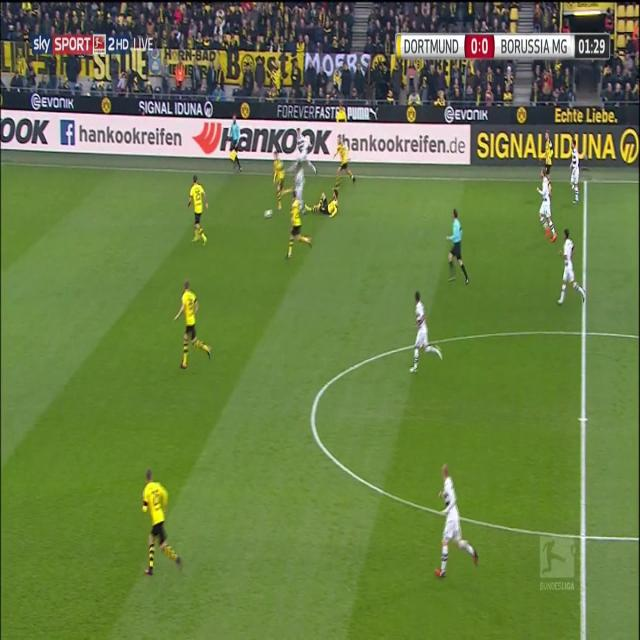Ball: (261, 204, 274, 226)
Player: (430, 460, 482, 586), (139, 469, 183, 581), (171, 278, 214, 373), (406, 284, 445, 380), (554, 224, 586, 310), (285, 194, 314, 268), (534, 170, 560, 247), (186, 172, 209, 247), (286, 126, 321, 175), (271, 150, 291, 218), (302, 186, 342, 220), (334, 132, 356, 186), (569, 140, 583, 208), (542, 130, 556, 179)
Referee: (442, 204, 473, 287), (228, 112, 243, 178)
